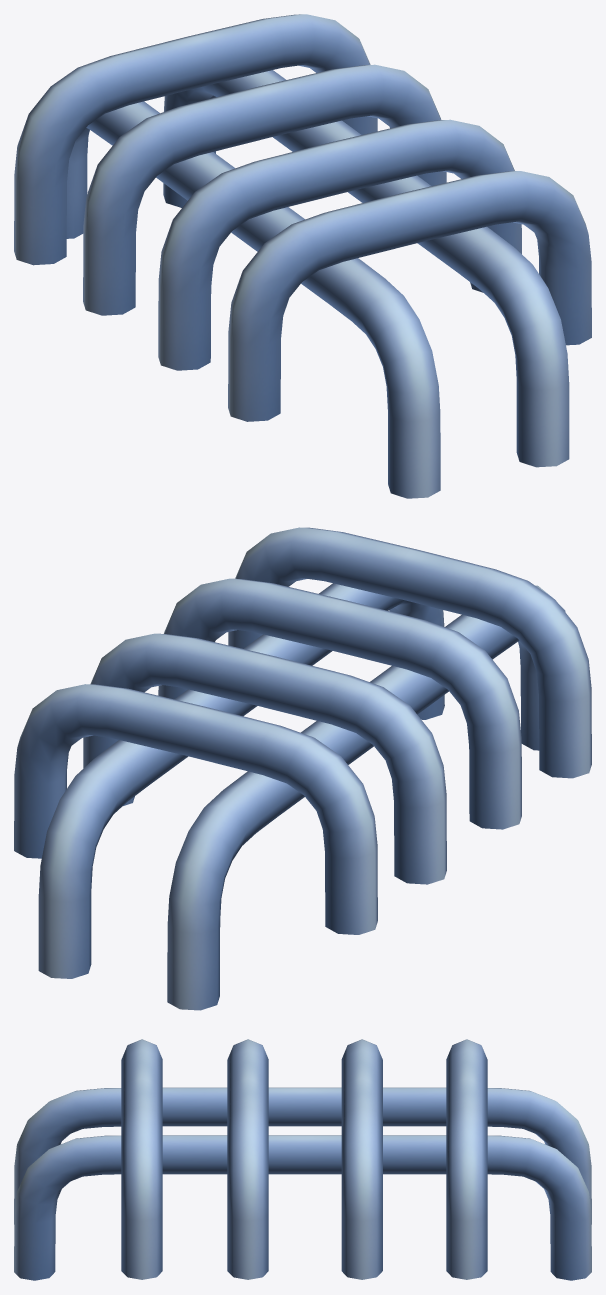
Rendered from Lock_2.fbx.
3 renders of one model, top to bottom at view 1: azimuth 30°, elevation 25°; view 2: azimuth 150°, elevation 25°; view 3: azimuth 270°, elevation 25°, orthographic. The views are drawn at different scales.
Parts seen in each view (by area): view 1: lock_2; view 2: lock_2; view 3: lock_2.
Part boxes in pixels (bbox=[...]): lock_2: bbox=[14, 14, 591, 498]; lock_2: bbox=[14, 527, 591, 1010]; lock_2: bbox=[14, 1039, 591, 1280].
Bounding box in the file's own units: 1.29 × 0.779 × 2.38.
